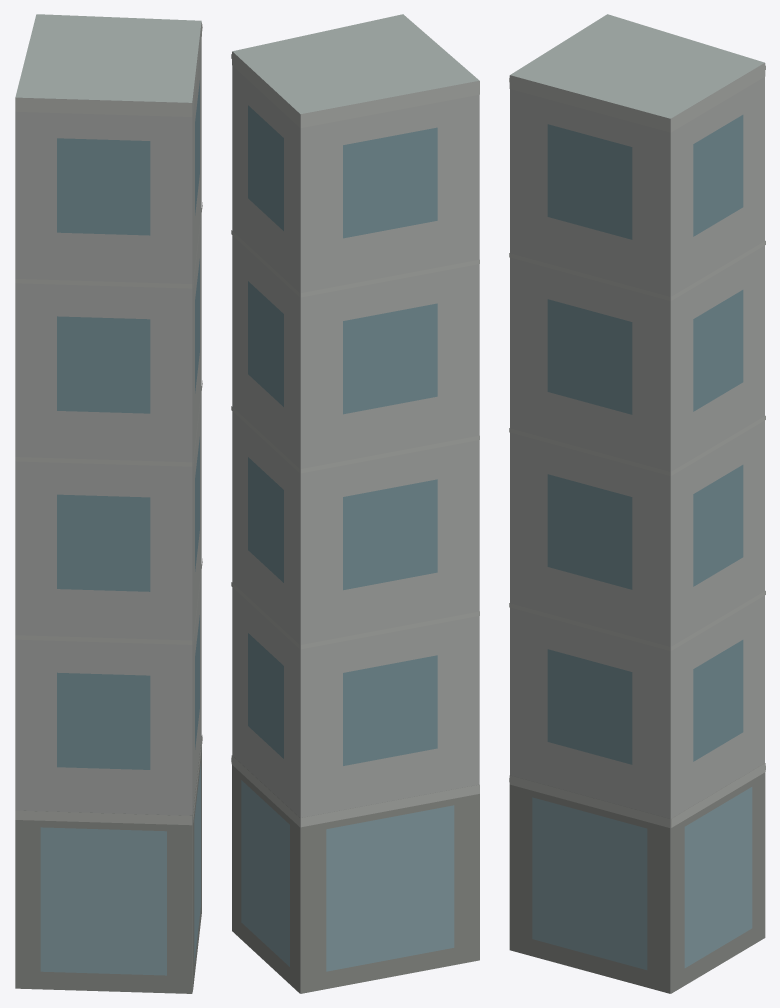
Rendered from survey-upis-32708602.glb.
The picture shows the model from 3 angles, left to right: view 1: azimuth 30°, elevation 25°; view 2: azimuth 150°, elevation 25°; view 3: azimuth 270°, elevation 25°; orthographic projection.
Parts seen in each view (by area): view 1: survey-upis-32708602.tmp; view 2: survey-upis-32708602.tmp; view 3: survey-upis-32708602.tmp.
Part boxes in pixels (left/top/right/bottom): survey-upis-32708602.tmp: left=15, top=14, right=202, bottom=993; survey-upis-32708602.tmp: left=231, top=14, right=479, bottom=993; survey-upis-32708602.tmp: left=509, top=14, right=765, bottom=993.
Bounding box in the file's own units: 3.94 × 15.25 × 4.05.
